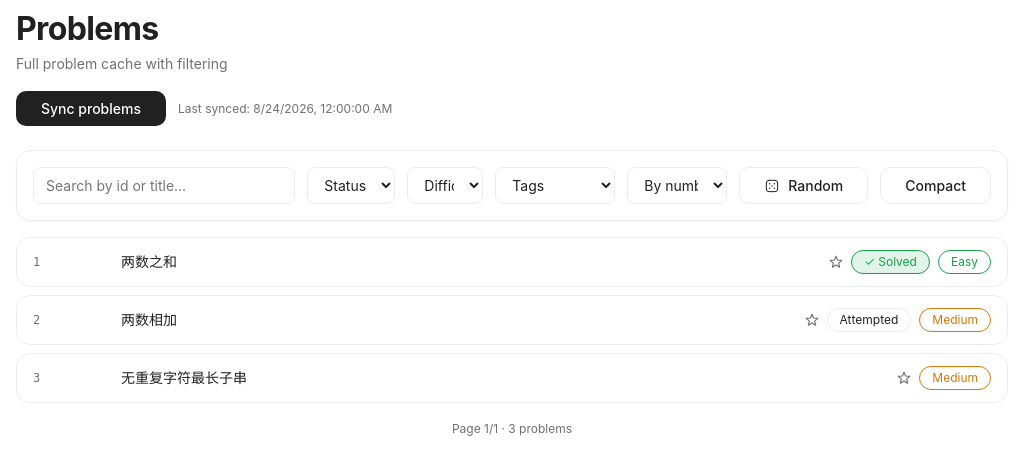
Problems view › random button is disabled when no problem matches the filters
This screenshot has width=1025, height=453.
Select "Favorites" in the dropdown with test id "status-select" at (351, 186), box [307,167,395,204]
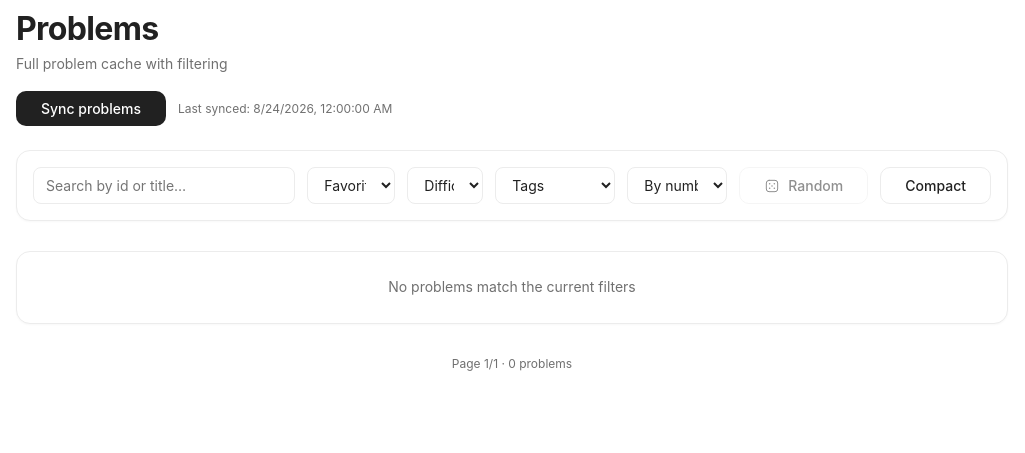
Now the button with test id "random-btn" is disabled, box [739,167,868,204]
